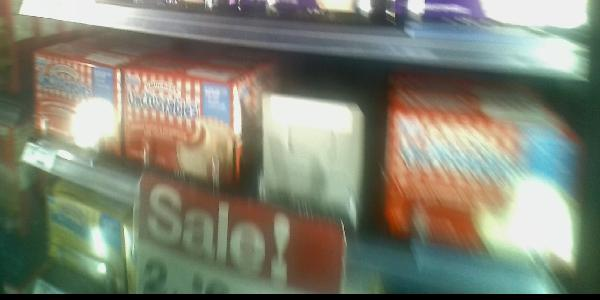icecream: (393, 80, 570, 268), (119, 47, 254, 204), (29, 37, 123, 189)
